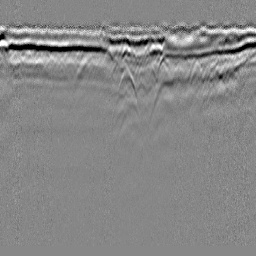cavity: (118, 65, 138, 102)
